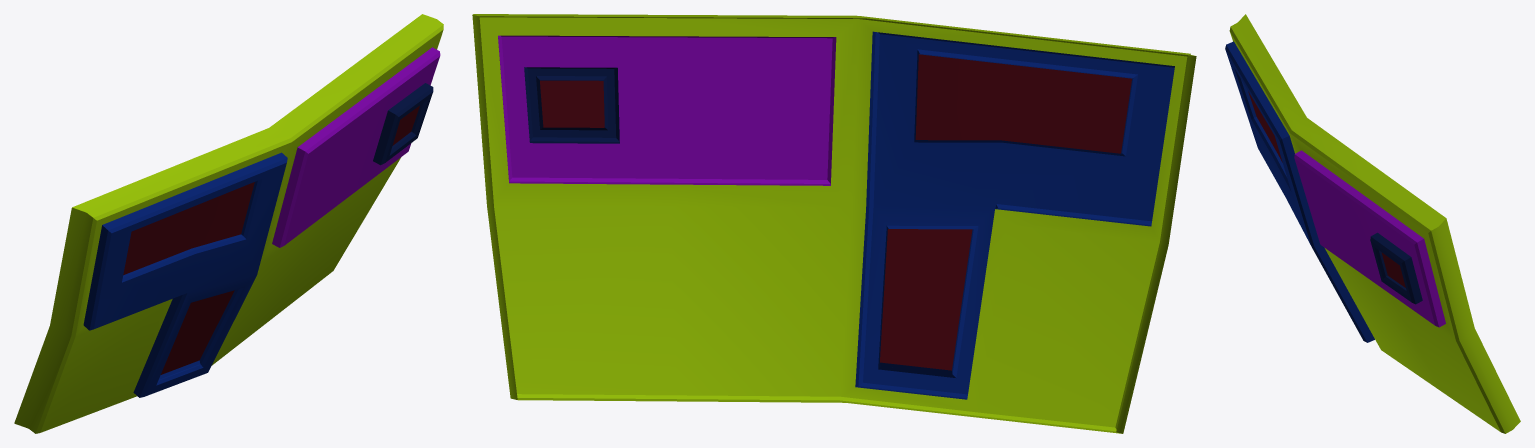
Rendered from OBJ_Module_3.fbx.
The picture shows the model from 3 angles, left to right: view 1: azimuth 30°, elevation 25°; view 2: azimuth 150°, elevation 25°; view 3: azimuth 270°, elevation 25°; orthographic projection. The views are drawn at different scales.
Visible parts, largest first — view 1: Box002; view 2: Box002; view 3: Box002.
Boxes of the visible parts, x1,y1,x2,y2 form: Box002: (14, 14, 443, 433); Box002: (472, 14, 1196, 433); Box002: (1225, 14, 1520, 433).
Bounding box in the file's own units: 9.76 × 5.3 × 5.81.
